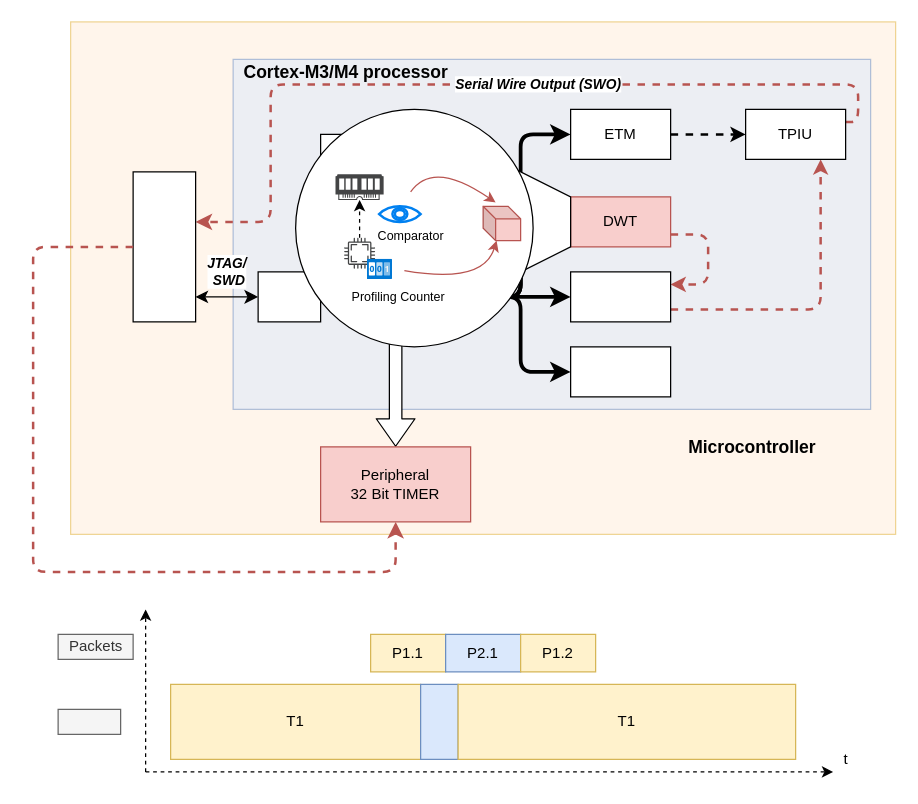
Some shapes in this 918 by 804 pixel diagram are drawn without their labels. The shapes that lost their labels are listed below. From the top down, each one's box as (x1, y1, x2, y2) in pixels, then its label:
(132, 171, 196, 322): Connector
(257, 271, 321, 322): Bridge
(569, 271, 671, 322): ITM
(569, 346, 671, 397): FPB
(57, 708, 121, 734): Tasks
(419, 683, 458, 759): T2
